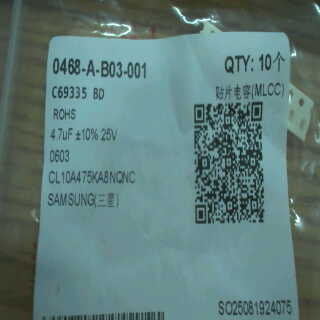4.7uF: (49, 125, 74, 144)
